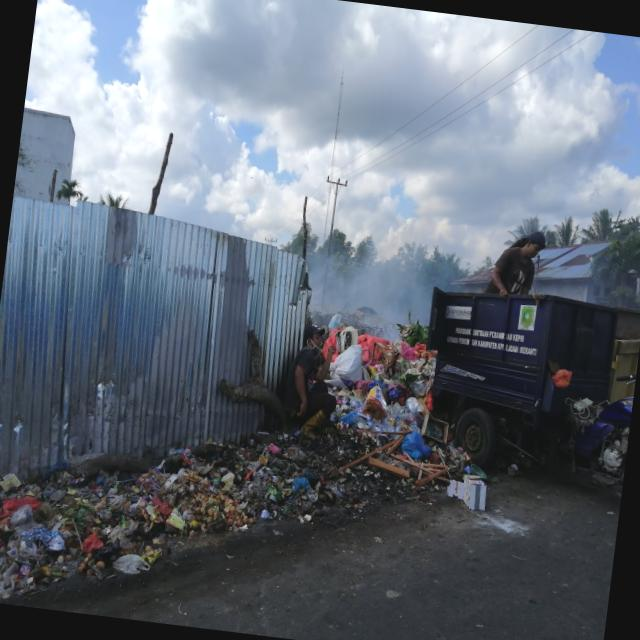garbage: (0, 277, 481, 640)
